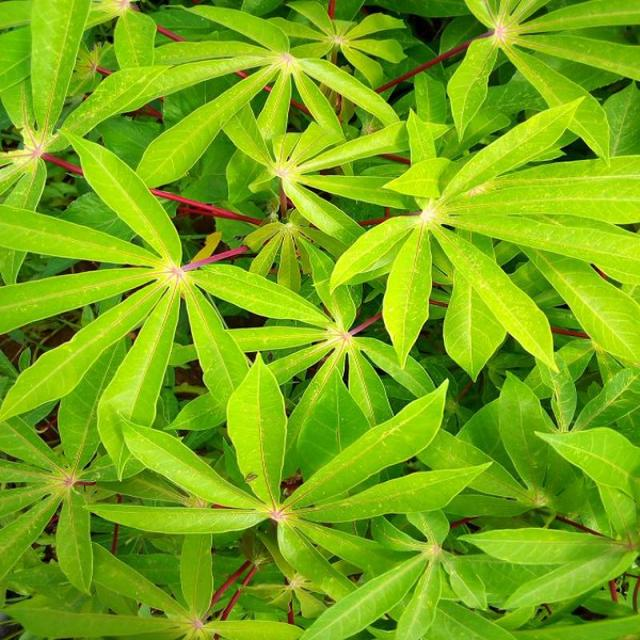cassava leaf: (0, 1, 638, 637), (326, 93, 638, 380)
